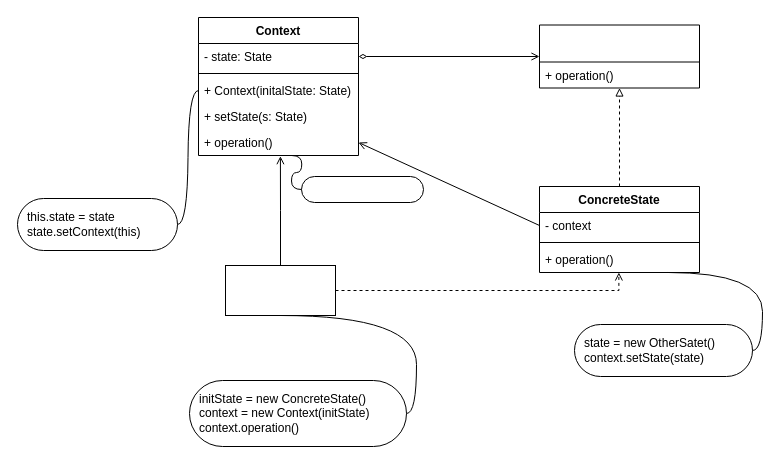
Image size: 780x464. Some labels were removed from this diagram. The box of each missing label's shape, as (x1, y1, x2, y2) in pixels:
Client: (224, 264, 336, 316)
state.operation(): (300, 176, 424, 202)
«interface» State: (538, 24, 700, 88)
